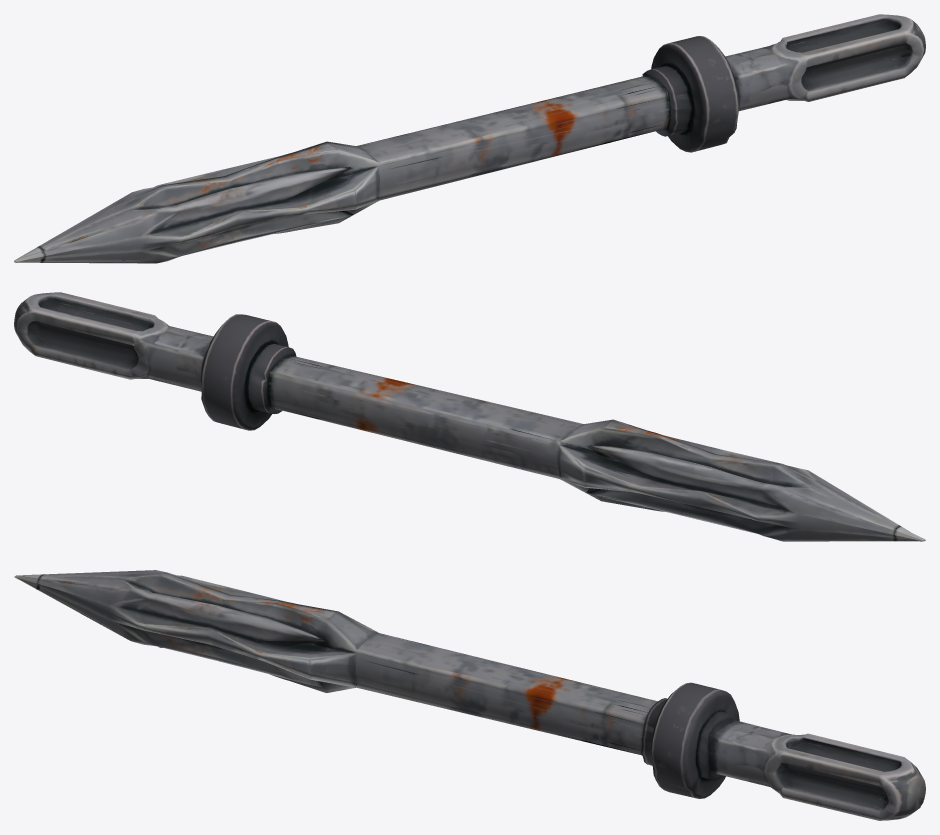
The model's file is pointed_chisel.glb.
3 views of the same model, one above another, from view 1: azimuth 30°, elevation 25°; view 2: azimuth 150°, elevation 25°; view 3: azimuth 330°, elevation 25° (orthographic).
Parts seen in each view (by area): view 1: geometry_0; view 2: geometry_0; view 3: geometry_0.
Boxes of the visible parts, x1,y1,x2,y2 form: geometry_0: (14,14,925,263); geometry_0: (14,292,925,541); geometry_0: (14,570,925,820).
Size of the model in its own units: 0.9497 by 0.1025 by 0.102.
Materials: 1 (1 with a texture image).
